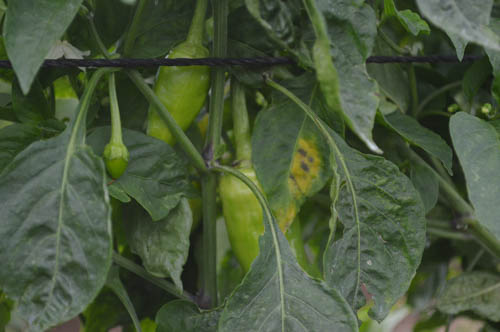ChiliPepper: (220, 172, 313, 286), (142, 46, 206, 146)
